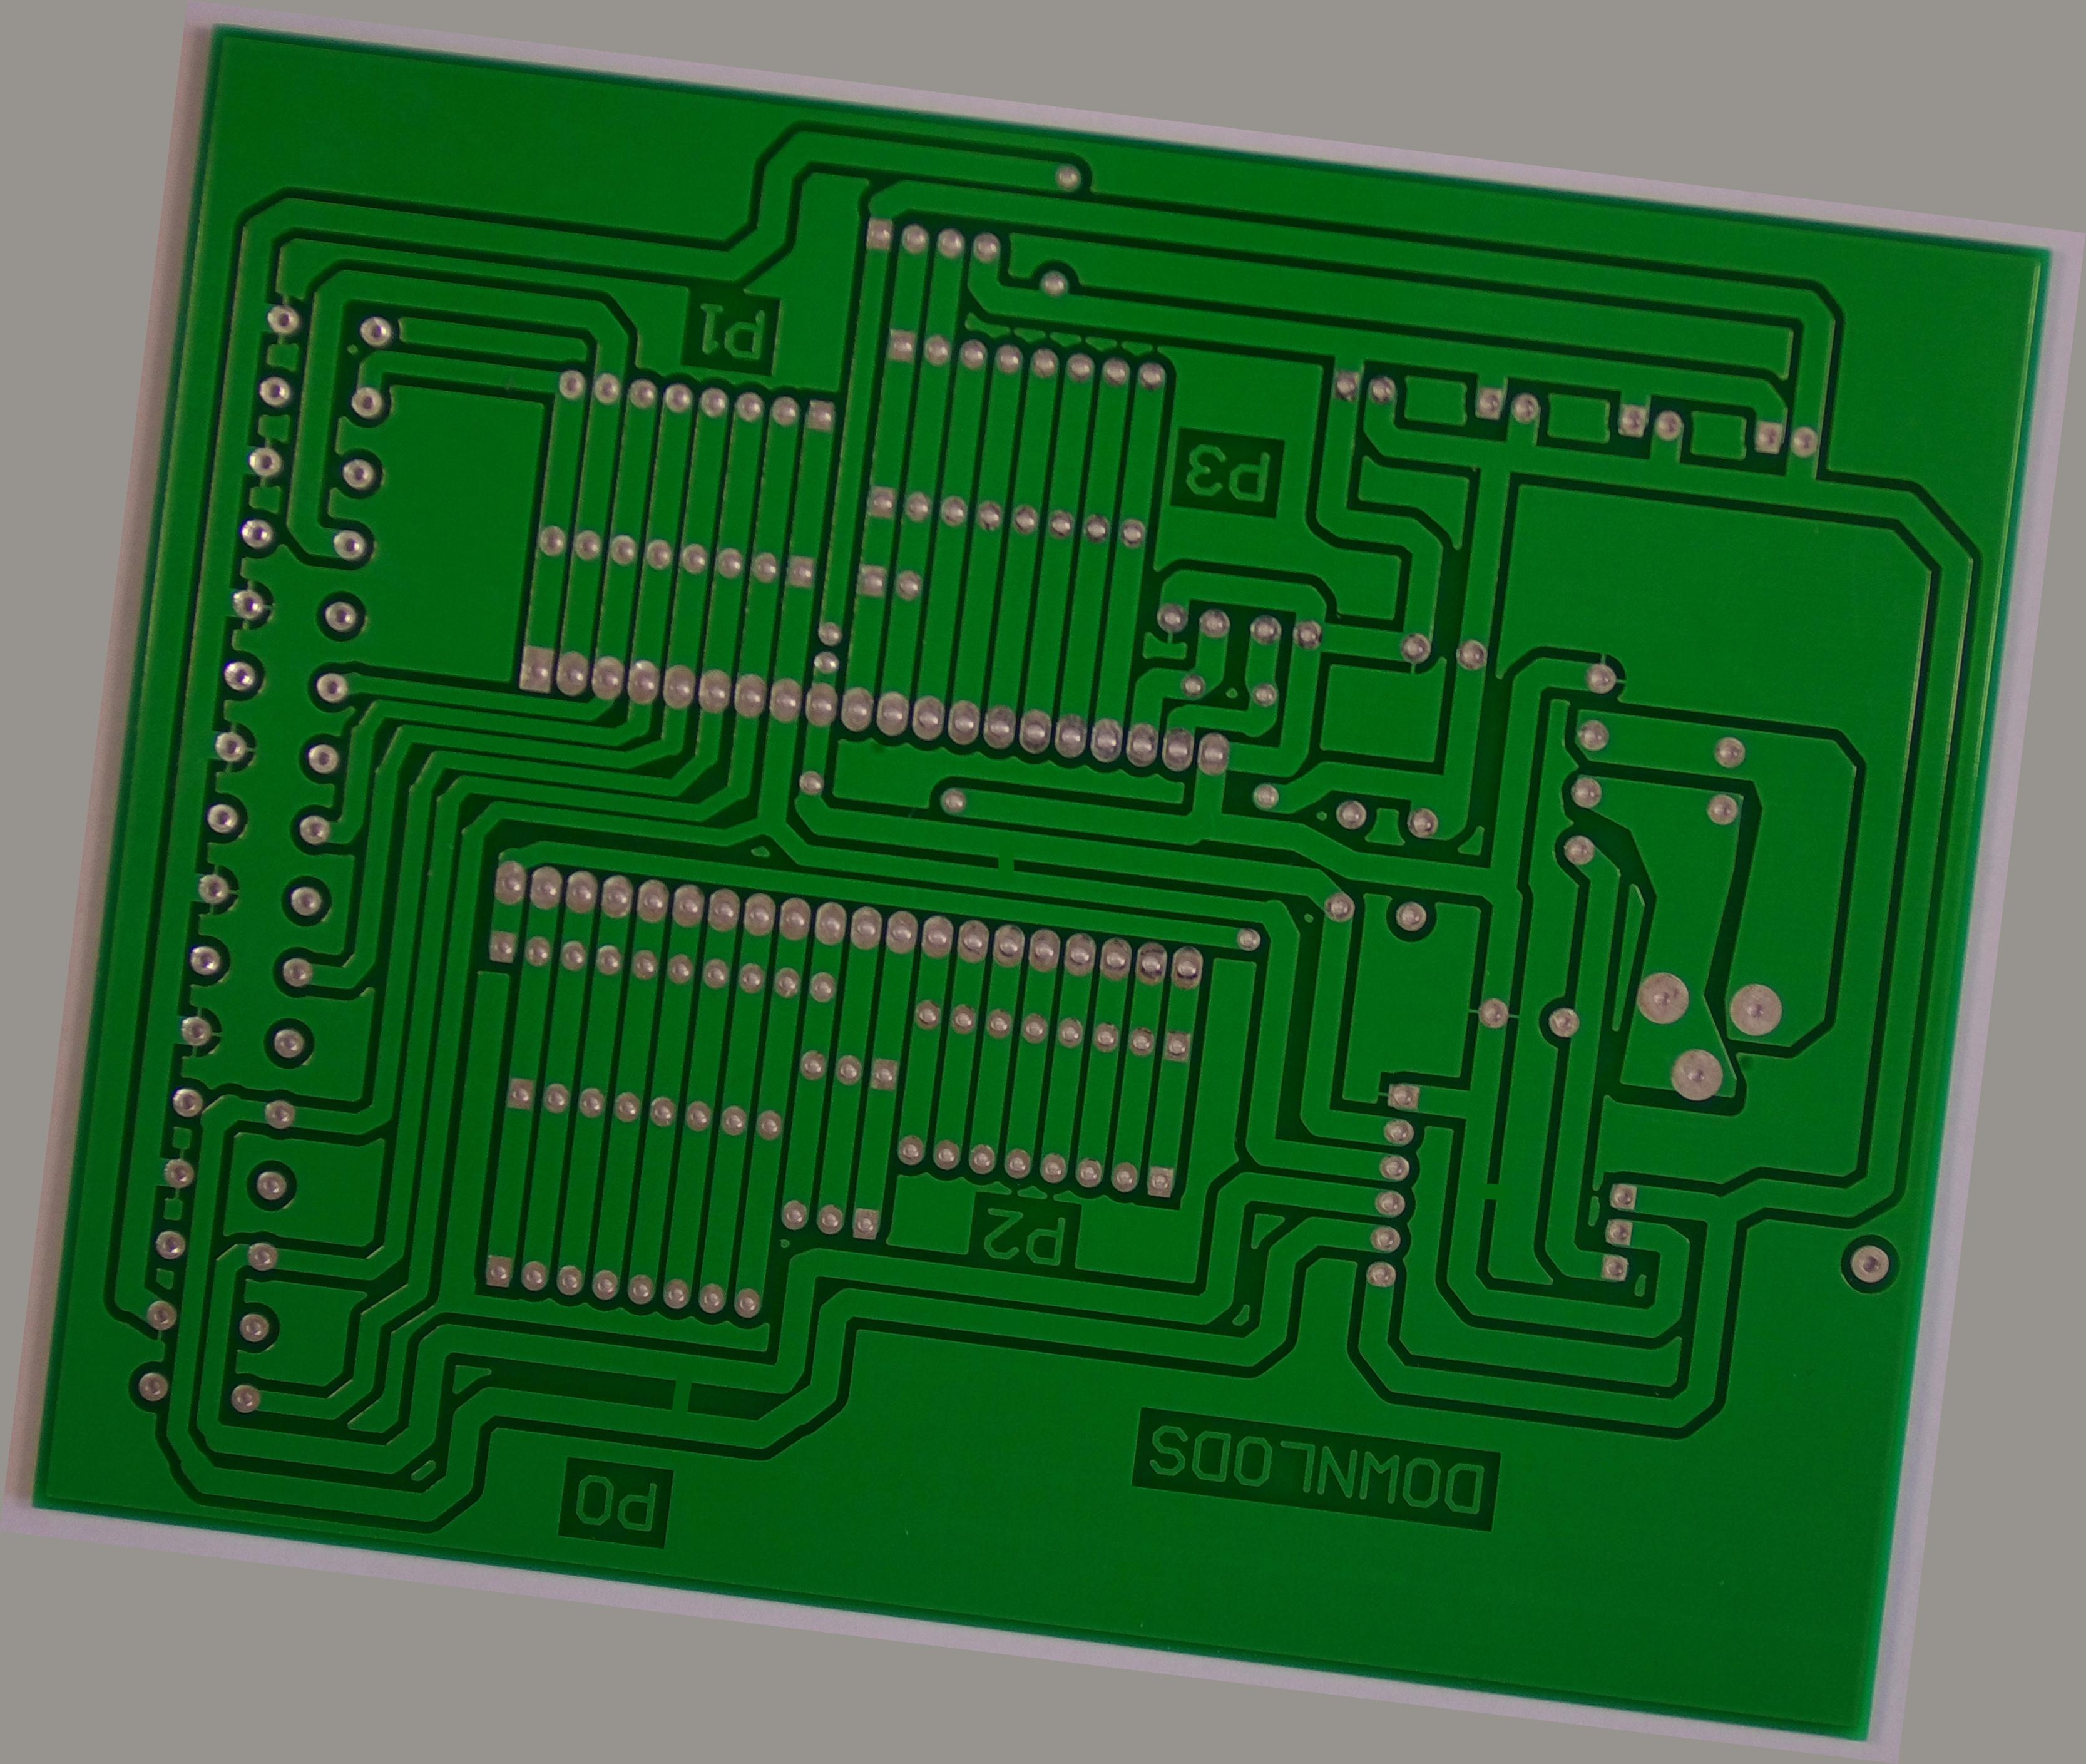short: (665, 1449, 768, 1571), (1538, 1118, 1612, 1218), (957, 821, 1041, 905)
